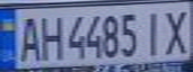4: (63, 11, 87, 60), (84, 11, 106, 60)
5: (118, 9, 142, 57)
8: (100, 11, 124, 58)
A: (12, 12, 42, 62)
H: (36, 11, 66, 61)
I: (139, 7, 169, 56)
X: (160, 6, 193, 55)
